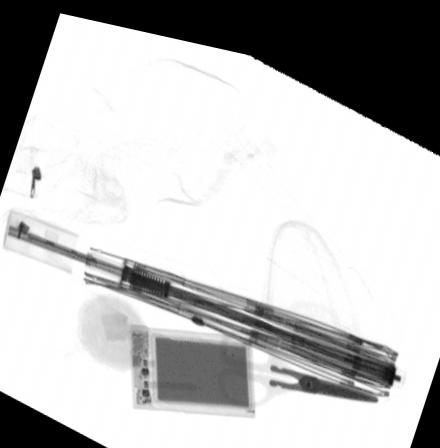Powerbank: (129, 317, 257, 406)
Scissors: (215, 311, 382, 396)
